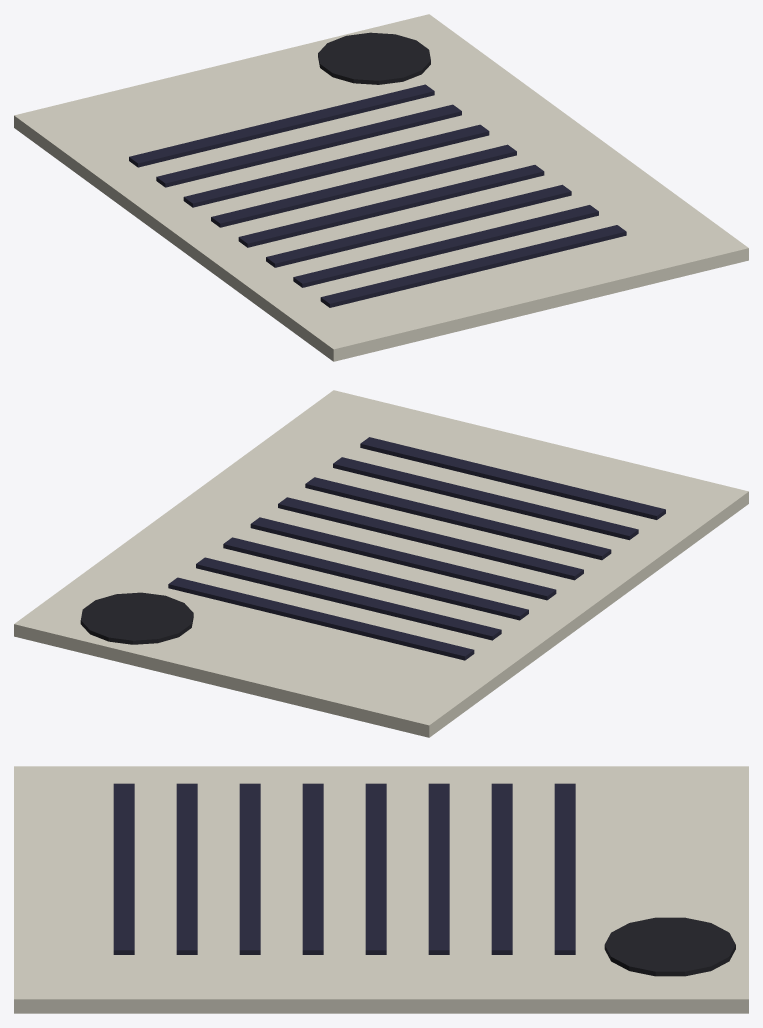
The model's file is karaoke_disc_clients.glb.
3 views of the same model, one above another, from view 1: azimuth 30°, elevation 25°; view 2: azimuth 150°, elevation 25°; view 3: azimuth 270°, elevation 25° (orthographic). The views are drawn at different scales.
Visible parts, largest first — view 1: paper_clients_paper, lines_clients_ink (×8), disc_clients_disc; view 2: paper_clients_paper, lines_clients_ink (×8), disc_clients_disc; view 3: paper_clients_paper, lines_clients_ink (×8), disc_clients_disc.
Boxes of the visible parts, x1,y1,x2,y2 form: paper_clients_paper: [14, 14, 748, 361]; lines_clients_ink (×8): [129, 84, 626, 307]; disc_clients_disc: [318, 32, 430, 84]; paper_clients_paper: [14, 390, 748, 737]; lines_clients_ink (×8): [168, 437, 665, 660]; disc_clients_disc: [80, 592, 193, 644]; paper_clients_paper: [14, 766, 748, 1013]; lines_clients_ink (×8): [113, 783, 575, 954]; disc_clients_disc: [604, 917, 735, 976].
Bounding box in the file's own units: 0.21 × 0.008 × 0.28.
